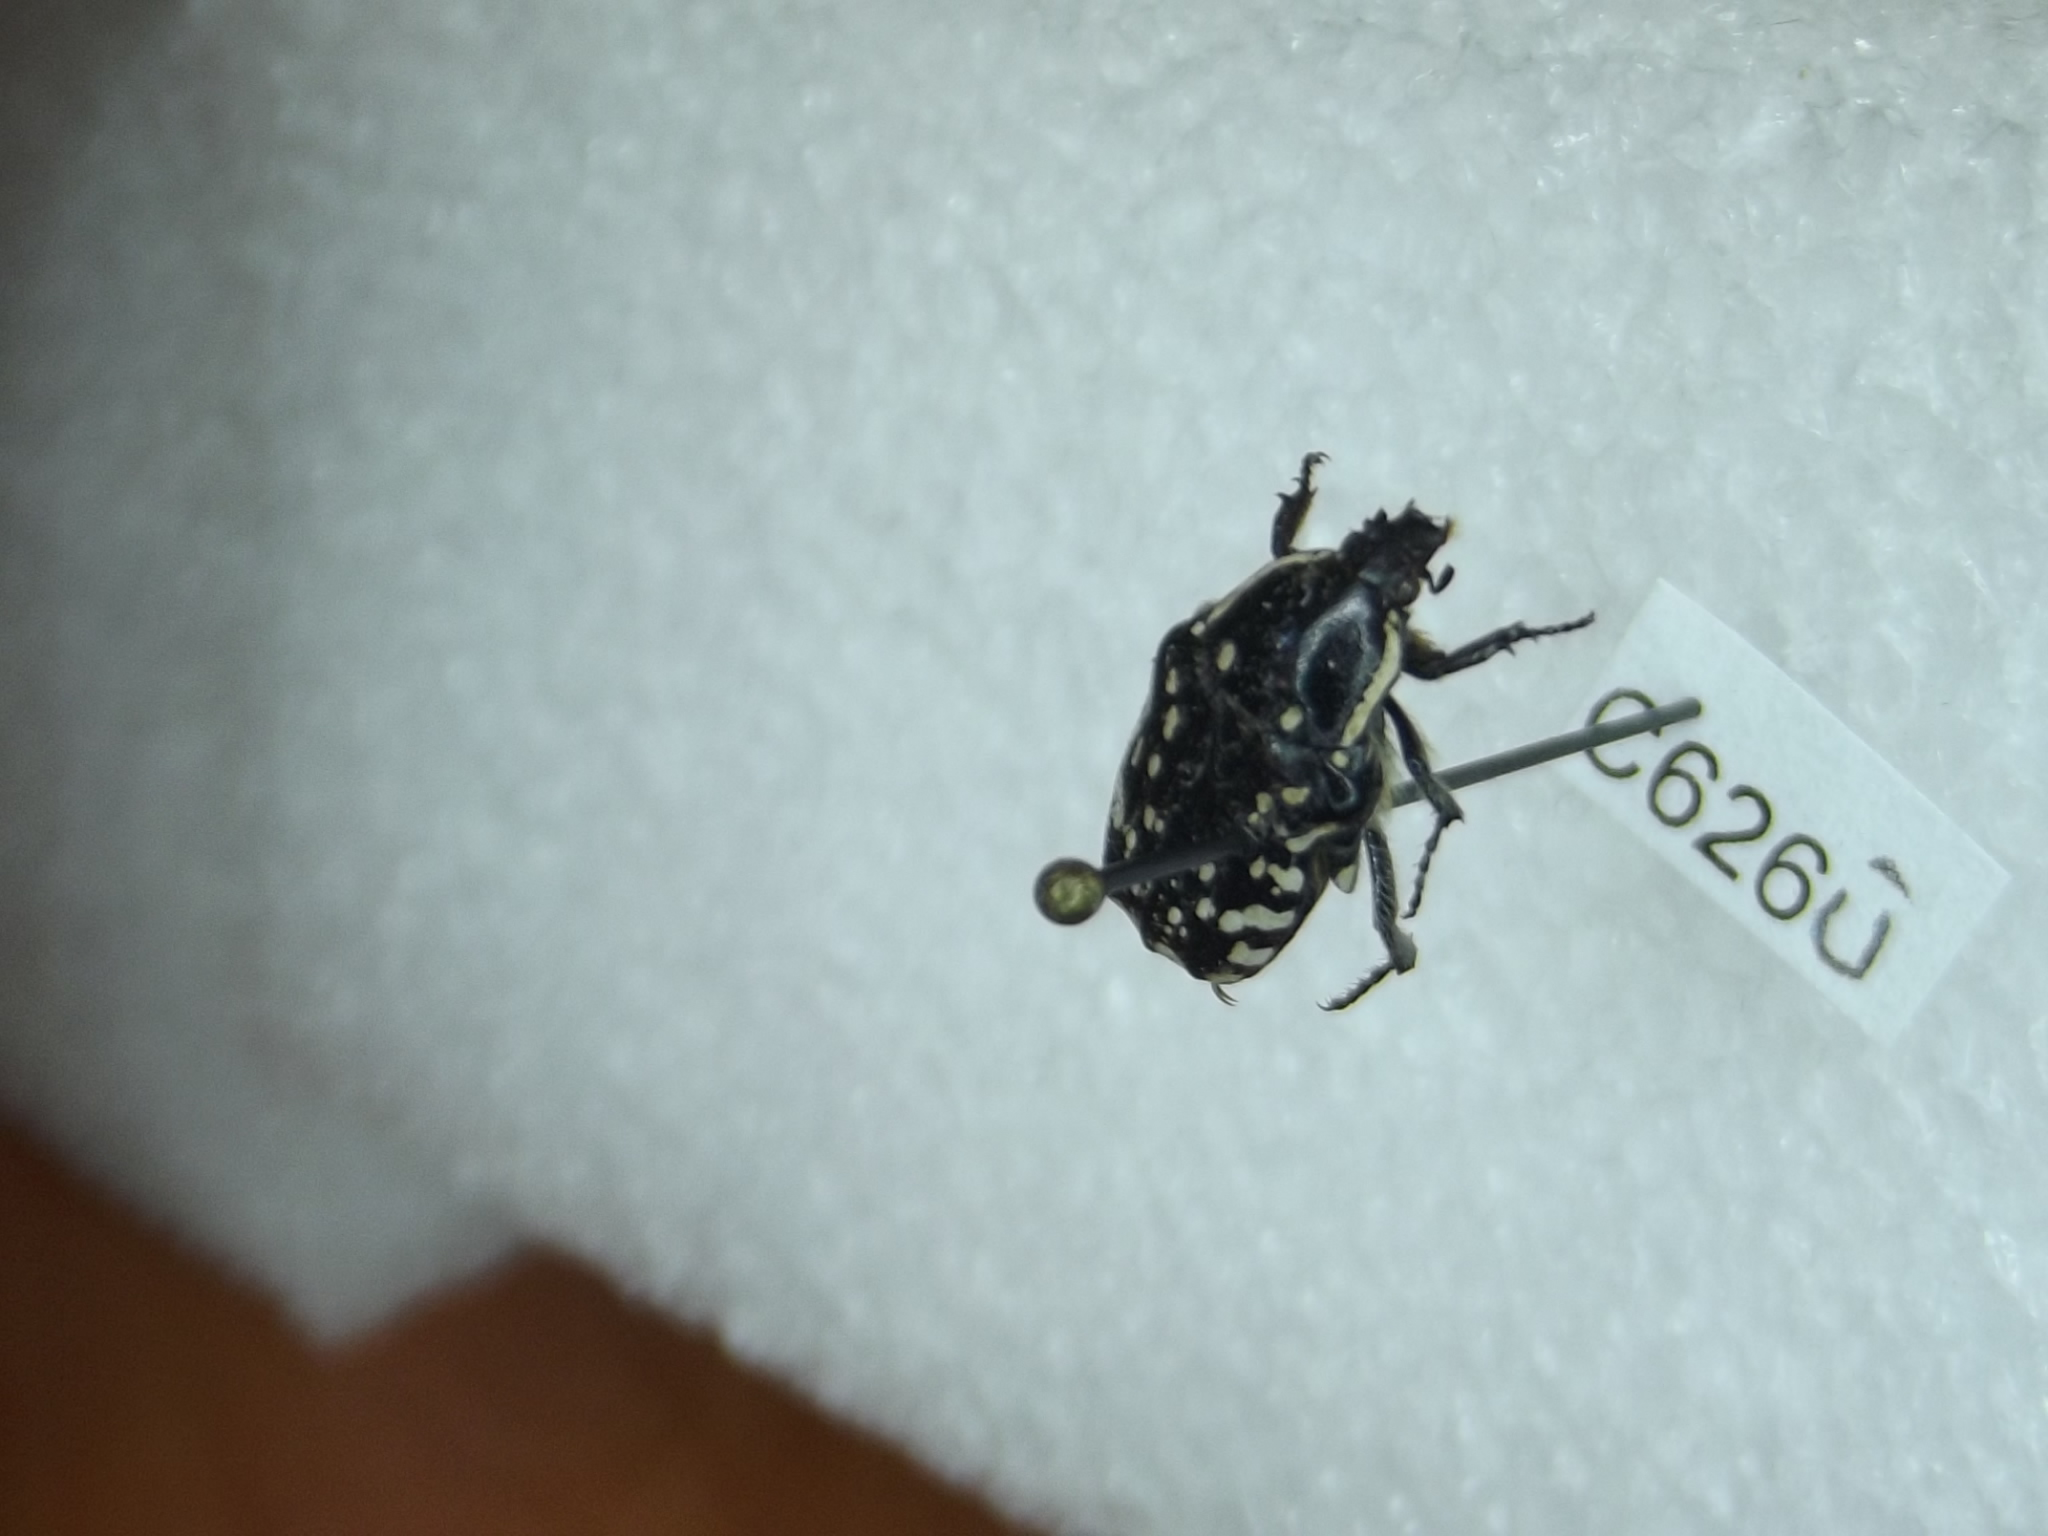Oxythyrea_funesta: (1109, 439, 1617, 1021)
